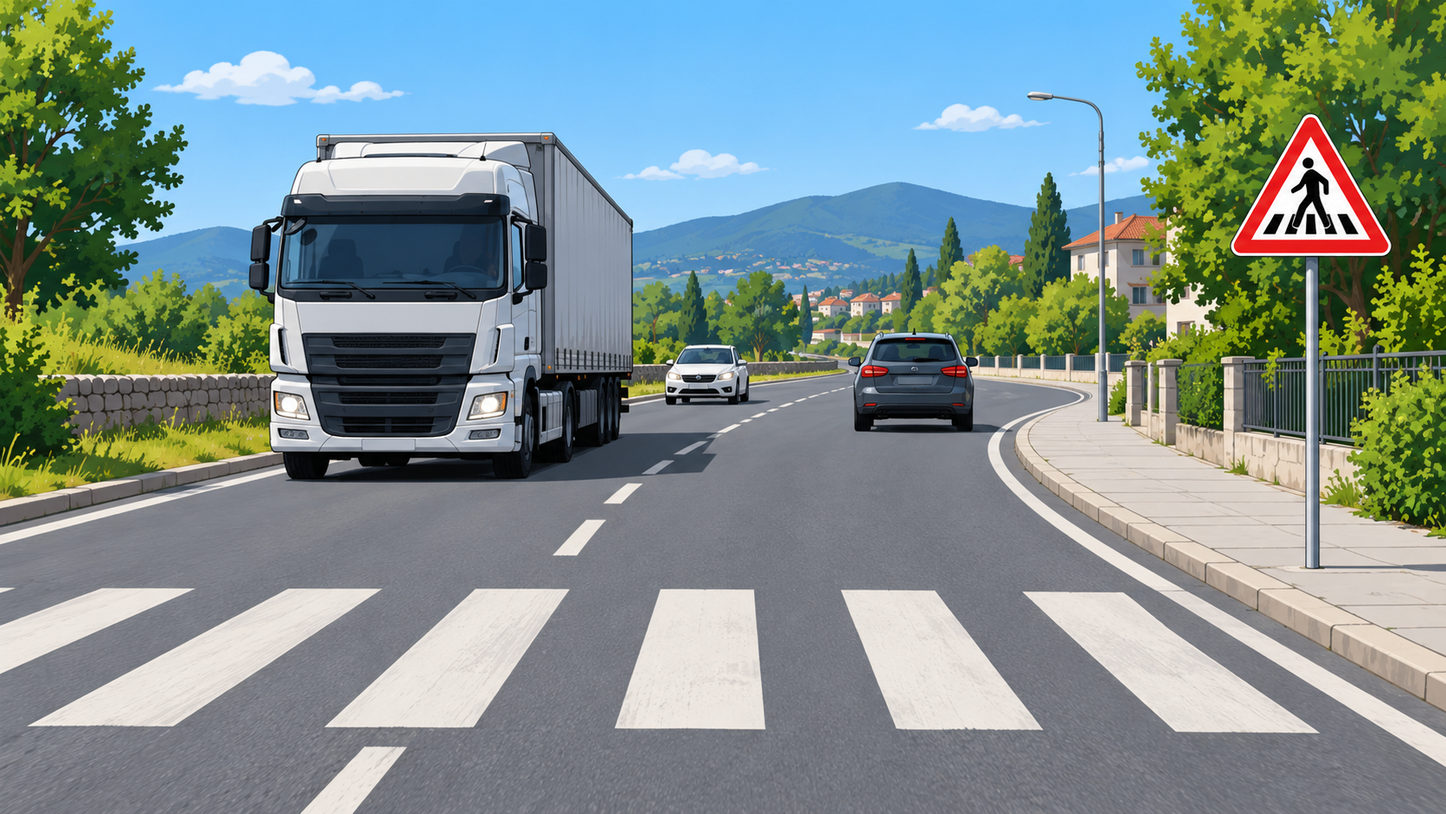car: (851, 330, 972, 434), (665, 345, 750, 407)
crossing_warning_sign: (1229, 113, 1391, 260)
truck: (248, 132, 641, 481)
zebra_crossing: (0, 585, 1323, 731)
